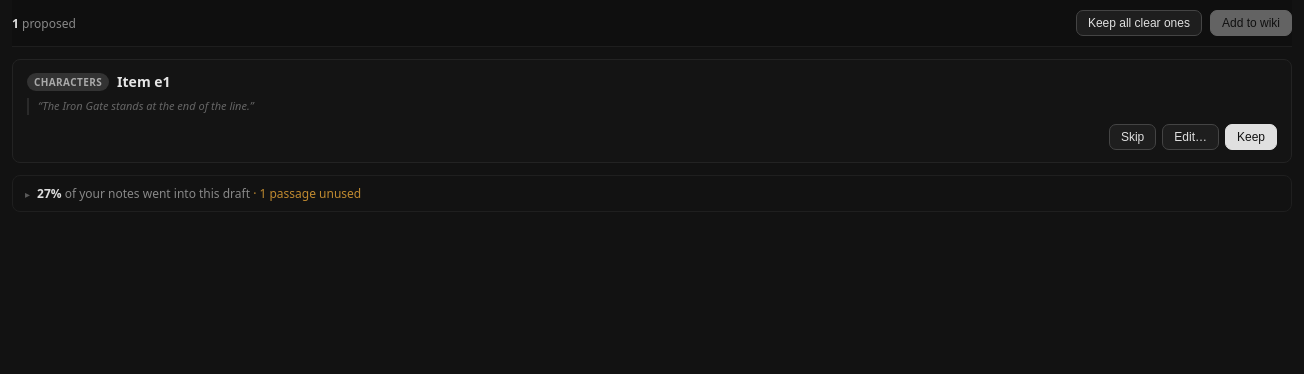
it: DraftReview › carries the pane for the draft it loaded
This screenshot has width=1304, height=374.
Click the button with class "cov-head". click: x=157, y=193
box: x1=13 y1=176 x2=1291 y2=210
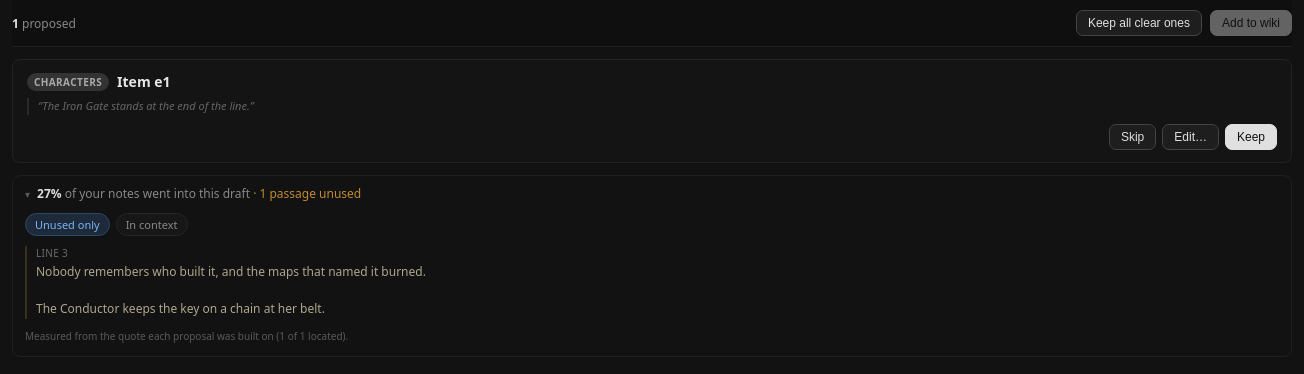
expect the list item with class "cov-passage" shows "Nobody remembers who built it, and the maps that named it burned.": met, box x1=36 y1=263 x2=426 y2=317
